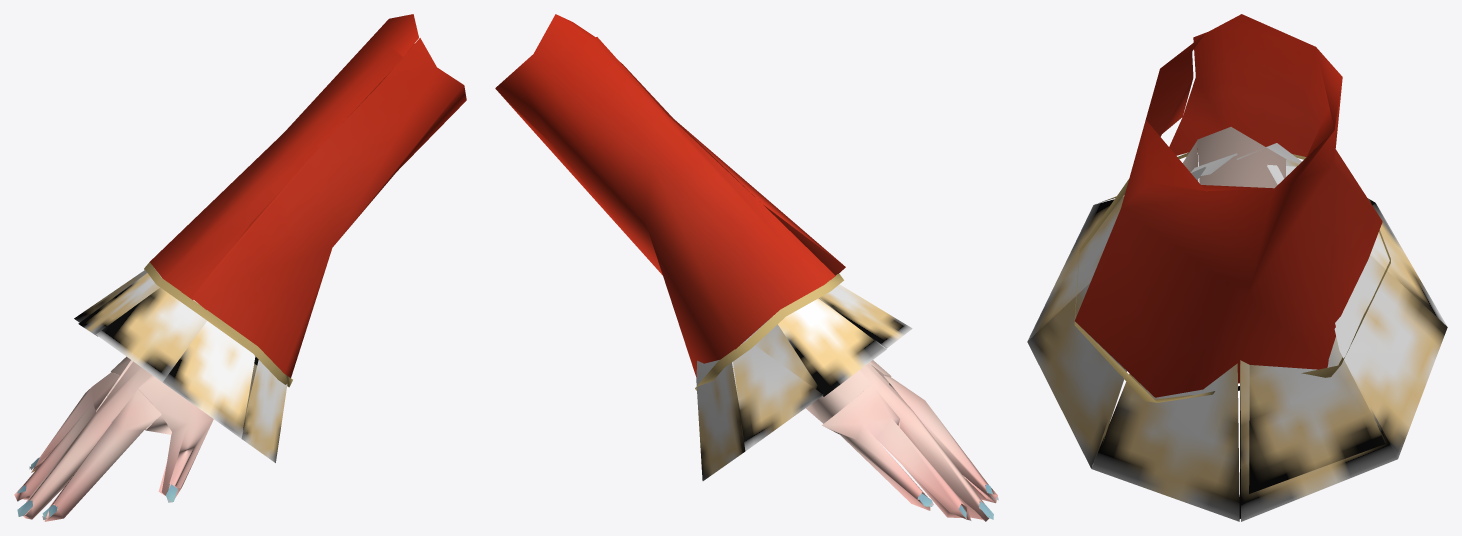
The model's file is nero_brazo_2.obj.
The picture shows the model from 3 angles, left to right: view 1: azimuth 30°, elevation 25°; view 2: azimuth 150°, elevation 25°; view 3: azimuth 270°, elevation 25°; orthographic projection. The views are drawn at different scales.
Visible parts, largest first — view 1: brazo2_Body_TDA_Saber_Nero.002; view 2: brazo2_Body_TDA_Saber_Nero.002; view 3: brazo2_Body_TDA_Saber_Nero.002.
Boxes of the visible parts, <box> form: brazo2_Body_TDA_Saber_Nero.002: <box>14,14,466,521</box>; brazo2_Body_TDA_Saber_Nero.002: <box>495,14,998,521</box>; brazo2_Body_TDA_Saber_Nero.002: <box>1027,14,1447,521</box>.
Size of the model in its own units: 0.6928 by 0.5866 by 0.346.
